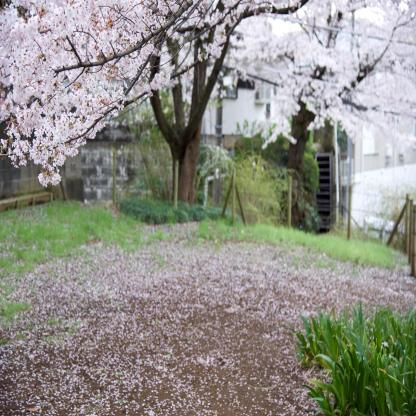Someiyoshino: (2, 3, 415, 201)
